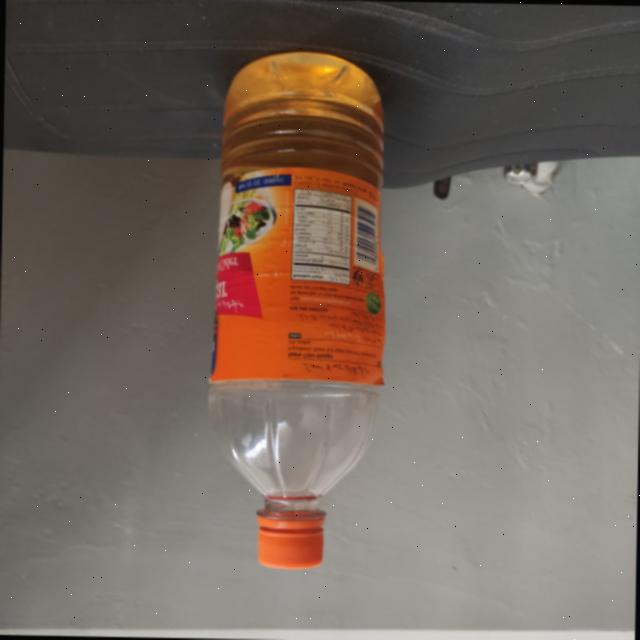bottle: (195, 18, 398, 574)
cap: (249, 504, 329, 567)
label: (203, 157, 386, 386)
